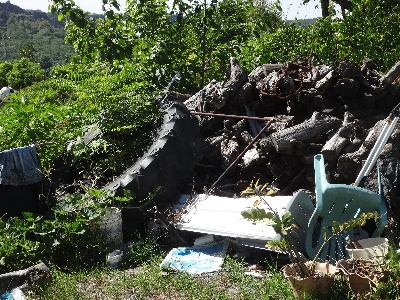bowl: (343, 237, 391, 262)
tire: (56, 97, 200, 222)
